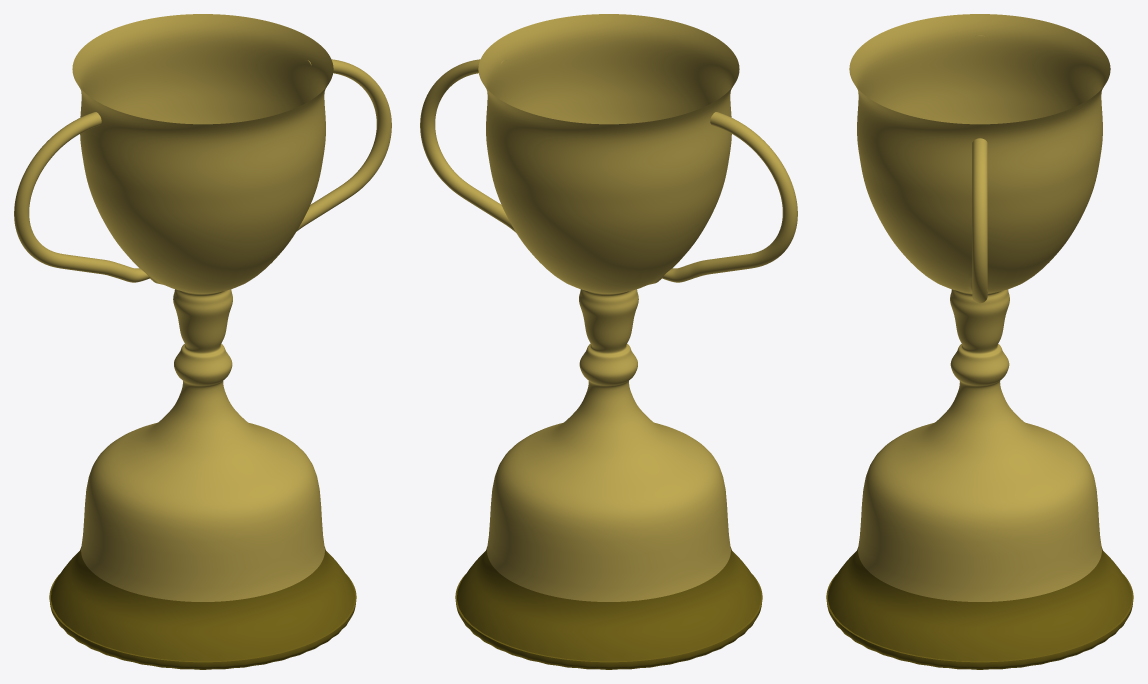
The model's file is trophy.fbx.
3 views of the same model, side by side, from view 1: azimuth 30°, elevation 25°; view 2: azimuth 150°, elevation 25°; view 3: azimuth 270°, elevation 25° (orthographic).
Visible parts, largest first — view 1: polySurface1; view 2: polySurface1; view 3: polySurface1.
Boxes of the visible parts, x1,y1,x2,y2 form: polySurface1: [14, 14, 391, 669]; polySurface1: [420, 14, 797, 669]; polySurface1: [826, 14, 1133, 669].
Bounding box in the file's own units: 4.76 × 6.62 × 3.37.
